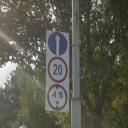speed_limit_20: (47, 56, 69, 85)
